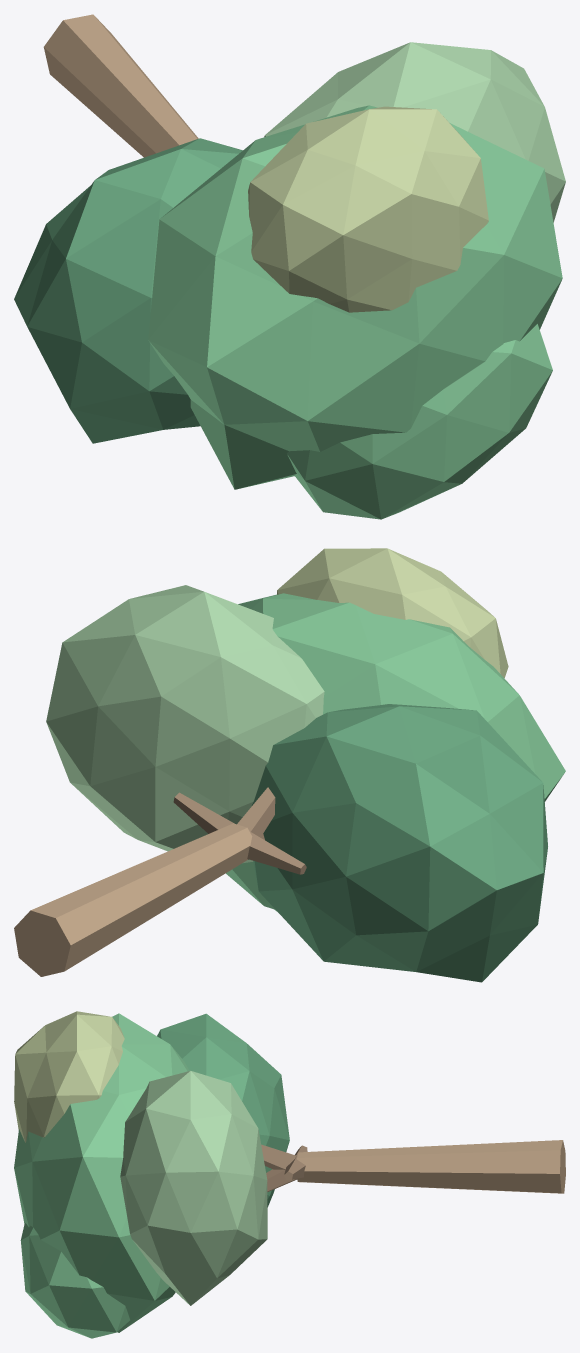
The model's file is tree_oak_round.glb.
The picture shows the model from 3 angles, top to bottom: view 1: azimuth 30°, elevation 25°; view 2: azimuth 150°, elevation 25°; view 3: azimuth 270°, elevation 25°; orthographic projection. The views are drawn at different scales.
Parts seen in each view (by area): view 1: tree_oak_round_leaf_mid, tree_oak_round_leaf_sage, tree_oak_round_leaf_dark, tree_oak_round_leaf_light, tree_oak_round_bark; view 2: tree_oak_round_leaf_dark, tree_oak_round_leaf_light, tree_oak_round_leaf_mid, tree_oak_round_bark, tree_oak_round_leaf_sage, tree_oak_round_bark_dark; view 3: tree_oak_round_leaf_mid, tree_oak_round_leaf_light, tree_oak_round_bark, tree_oak_round_leaf_sage, tree_oak_round_leaf_dark, tree_oak_round_bark_dark.
Boxes of the visible parts, <box> form: tree_oak_round_leaf_mid: <box>148,105,562,519</box>; tree_oak_round_leaf_sage: <box>248,106,488,312</box>; tree_oak_round_leaf_dark: <box>14,138,242,443</box>; tree_oak_round_leaf_light: <box>264,42,565,222</box>; tree_oak_round_bark: <box>43,14,198,157</box>; tree_oak_round_leaf_dark: <box>251,704,547,982</box>; tree_oak_round_leaf_light: <box>46,585,324,863</box>; tree_oak_round_leaf_mid: <box>226,593,565,911</box>; tree_oak_round_bark: <box>14,823,252,976</box>; tree_oak_round_leaf_sage: <box>277,548,508,677</box>; tree_oak_round_bark_dark: <box>173,787,306,874</box>; tree_oak_round_leaf_mid: <box>14,1013,189,1338</box>; tree_oak_round_leaf_light: <box>120,1070,267,1305</box>; tree_oak_round_bark: <box>297,1140,565,1193</box>; tree_oak_round_leaf_sage: <box>14,1011,124,1142</box>; tree_oak_round_leaf_dark: <box>157,1013,289,1207</box>; tree_oak_round_bark_dark: <box>261,1144,307,1191</box>.
Size of the model in its own units: 4.56 by 3.53 by 5.71.
